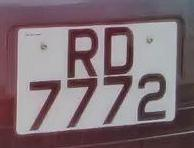2: (133, 69, 173, 123)
7: (24, 73, 66, 135), (63, 75, 104, 131), (101, 72, 137, 128)
D: (97, 22, 143, 78)
R: (59, 24, 104, 82)
